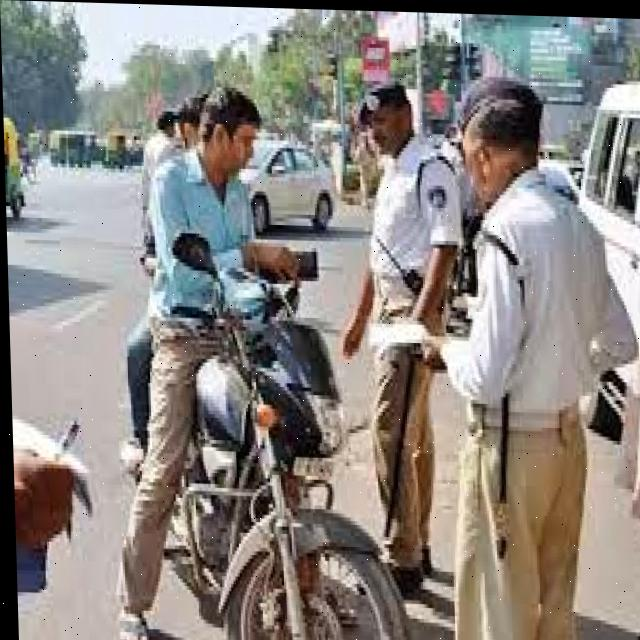without helmet: (193, 73, 265, 189)
